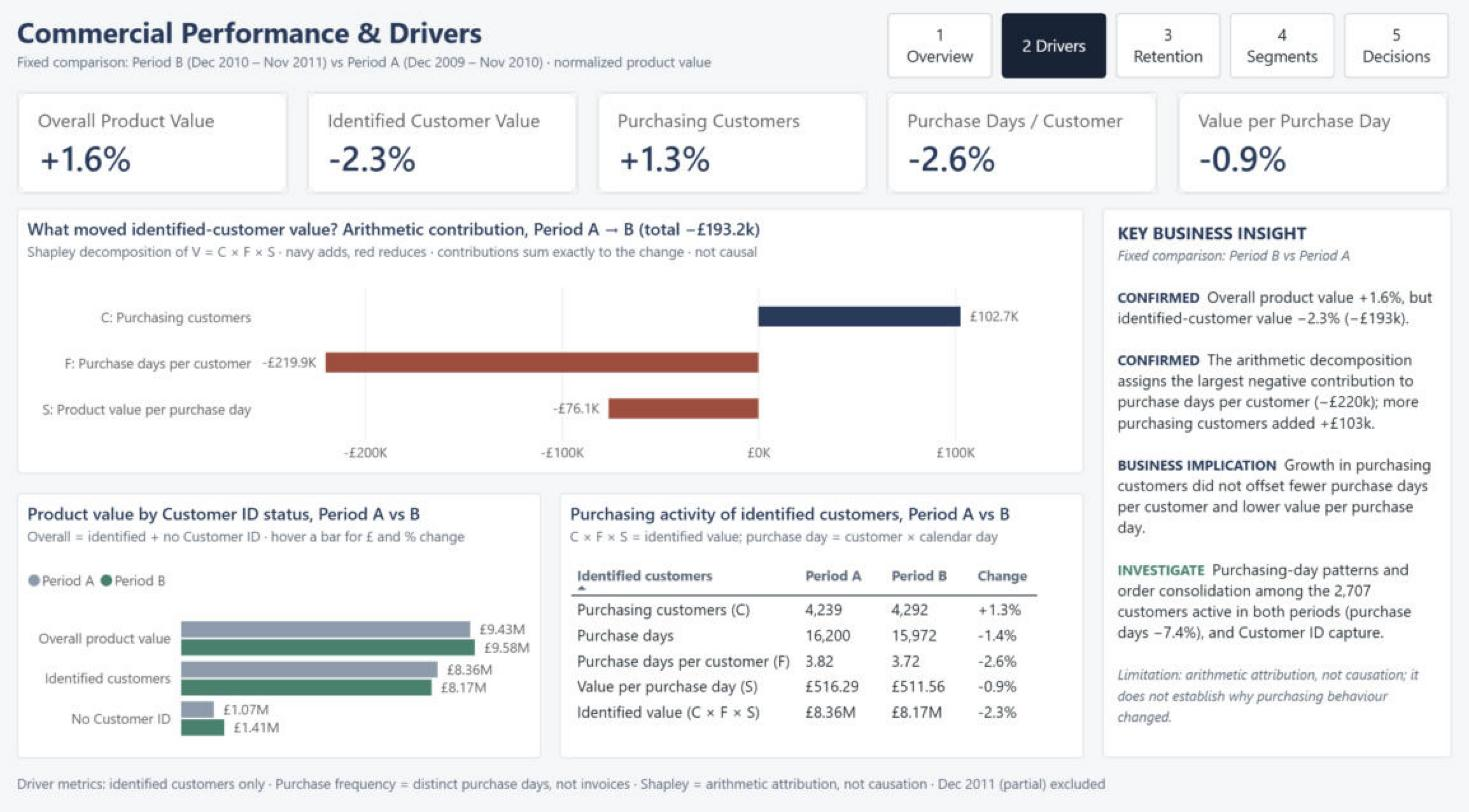

The page's visual inventory and layout, read from the dashboard file:
{"tool":"powerbi","page":{"name":"2 Drivers","canvas":[1280,720],"ordinal":1},"visuals":[{"type":"textbox","box":[24,24,740,56],"z":10},{"type":"pageNavigator","box":[772,24,484,56],"z":22},{"type":"cardVisual","fields":{"Data":["_Measures.P2 Card Overall Change"]},"box":[24,92,233,88],"z":30},{"type":"cardVisual","fields":{"Data":["_Measures.P2 Card Identified Change"]},"box":[273,92,233,88],"z":31},{"type":"cardVisual","fields":{"Data":["_Measures.P2 Card Customers Change"]},"box":[522,92,233,88],"z":32},{"type":"cardVisual","fields":{"Data":["_Measures.P2 Card Frequency Change"]},"box":[771,92,233,88],"z":33},{"type":"cardVisual","fields":{"Data":["_Measures.P2 Card Value per Day Change"]},"box":[1020,92,233,88],"z":34},{"type":"clusteredBarChart","title":"What moved identified-customer value? Arithmetic contribution, Period A → B (total −£193.2k)","fields":{"Category":["ref_driver_decomposition.driver"],"Y":["_Measures.Driver Contribution"]},"box":[24,192,916,228],"z":40},{"type":"clusteredBarChart","title":"Product value by Customer ID status, Period A vs B","fields":{"Category":["p2_value_line.line"],"Y":["_Measures.P2 Value Period A","_Measures.P2 Value Period B"]},"box":[24,436,450,228],"z":41},{"type":"tableEx","title":"Purchasing activity of identified customers, Period A vs B","fields":{"Values":["p2_activity_line.line","_Measures.P2 Activity Period A Text","_Measures.P2 Activity Period B Text","_Measures.P2 Activity Change Text"]},"box":[490,436,450,228],"z":42},{"type":"textbox","box":[956,192,300,472],"z":50},{"type":"textbox","box":[24,676,1232,20],"z":60}]}

Visuals, with their boxes in screenshot pixels (x1, y1, x2, y2), scaled from the page's 1280x720 canvas onto the 1469x812 screenshot:
textbox: (28,27,877,90)
pageNavigator: (886,27,1441,90)
cardVisual - _Measures.P2 Card Overall Change: (28,104,295,203)
cardVisual - _Measures.P2 Card Identified Change: (313,104,581,203)
cardVisual - _Measures.P2 Card Customers Change: (599,104,866,203)
cardVisual - _Measures.P2 Card Frequency Change: (885,104,1152,203)
cardVisual - _Measures.P2 Card Value per Day Change: (1171,104,1438,203)
"What moved identified-customer value? Arithmetic contribution, Period A → B (total −£193.2k)" clusteredBarChart: (28,217,1079,474)
"Product value by Customer ID status, Period A vs B" clusteredBarChart: (28,492,544,749)
"Purchasing activity of identified customers, Period A vs B" tableEx: (562,492,1079,749)
textbox: (1097,217,1441,749)
textbox: (28,762,1441,785)
